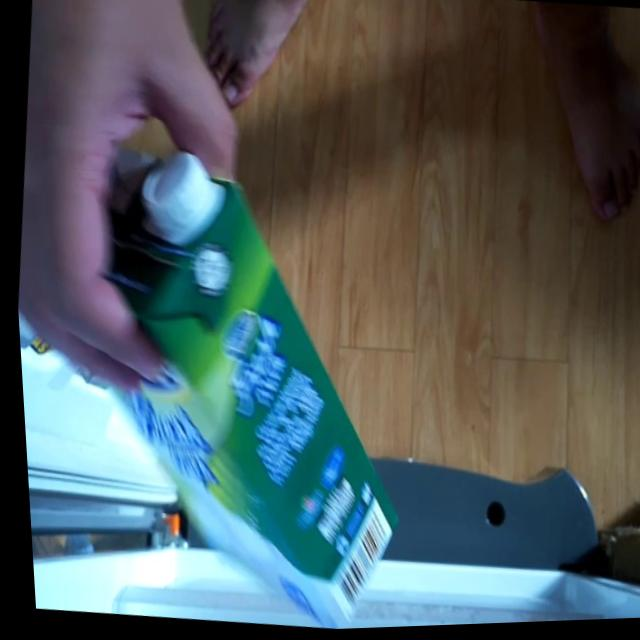milk: (47, 145, 441, 636)
